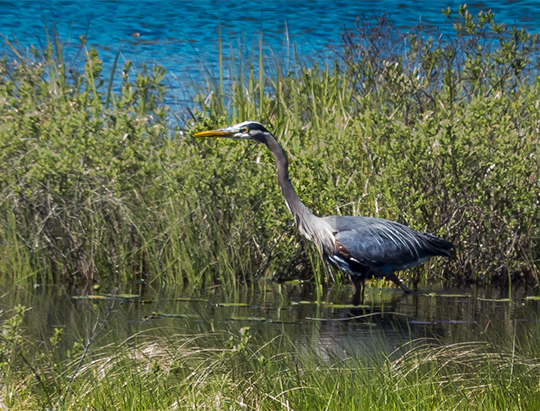heron: (189, 117, 457, 325)
